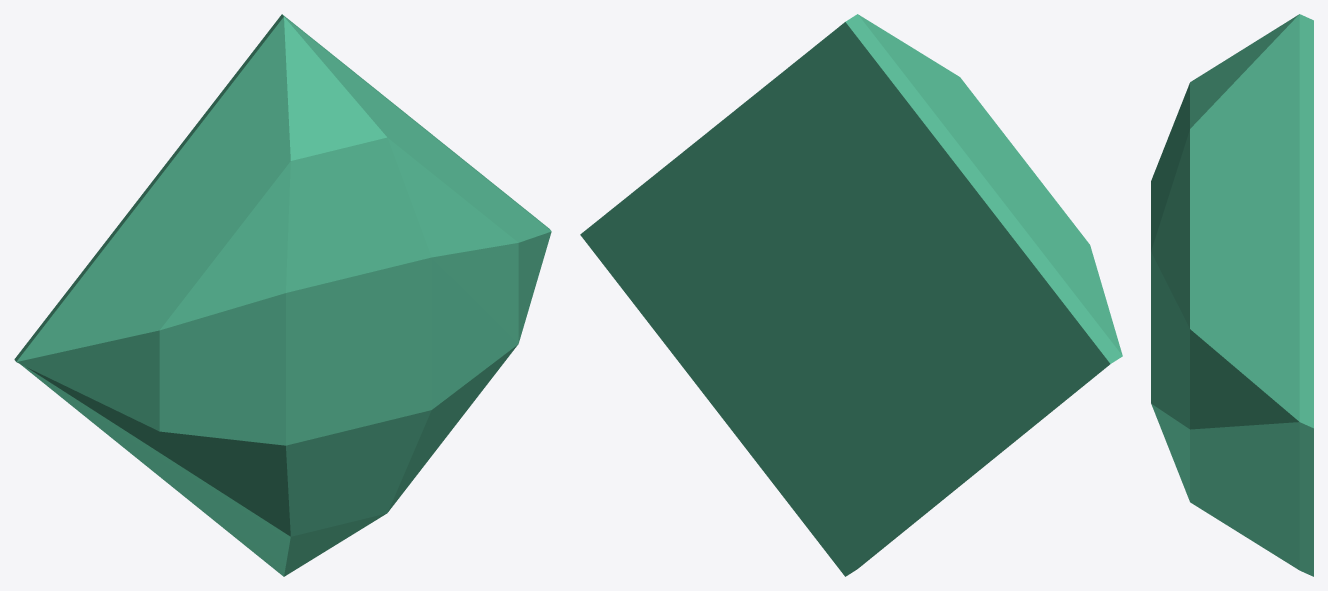
The model's file is smallTailCollider.obj.
The picture shows the model from 3 angles, left to right: view 1: azimuth 30°, elevation 25°; view 2: azimuth 150°, elevation 25°; view 3: azimuth 270°, elevation 25°; orthographic projection.
Visible parts, largest first — view 1: tomato.001; view 2: tomato.001; view 3: tomato.001.
Part boxes in pixels (<box>): tomato.001: <box>14,14,551,576</box>; tomato.001: <box>580,14,1122,576</box>; tomato.001: <box>1151,14,1313,576</box>.
Bounding box in the file's own units: 0.0439 × 0.0438 × 0.0115.
